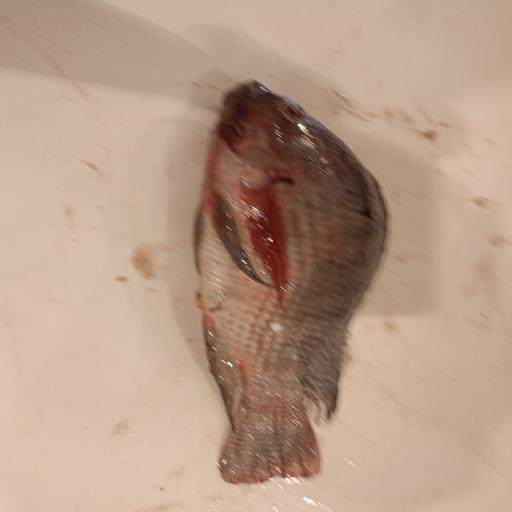Tilapia: (193, 79, 389, 485)
